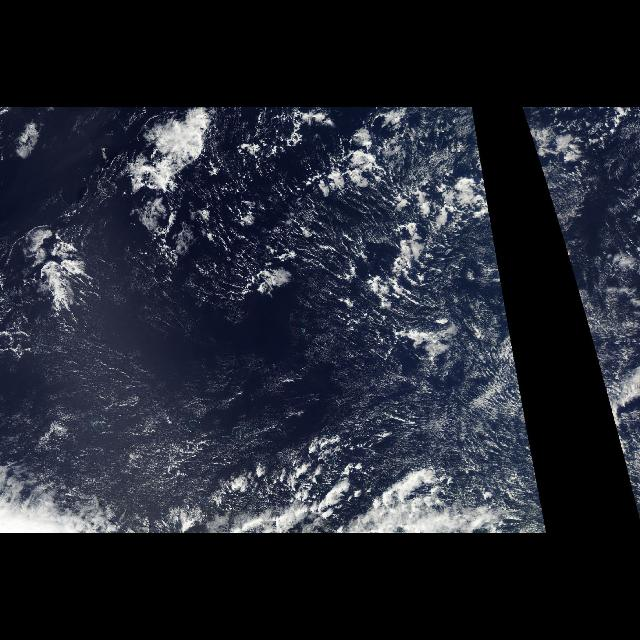Gravel: (226, 121, 487, 336)
Sugar: (315, 232, 539, 486), (41, 328, 286, 478), (558, 234, 632, 468)
